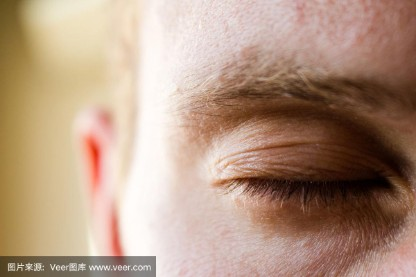闭眼: (202, 107, 401, 242)
